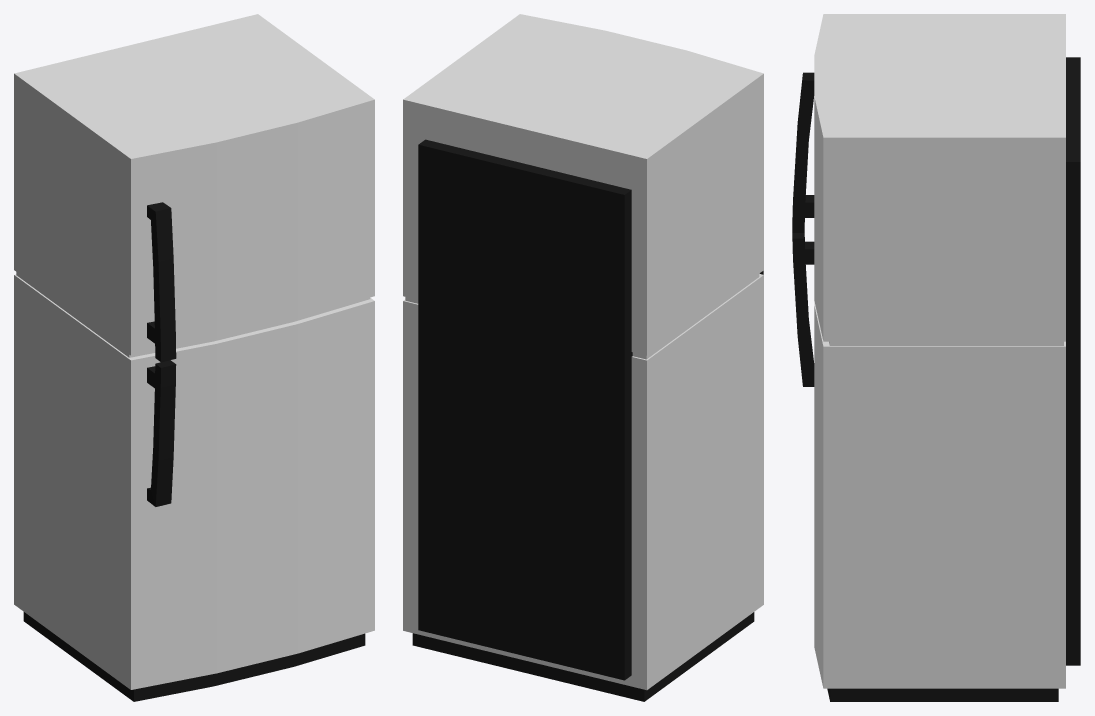
File: Refrigerator.fbx
The picture shows the model from 3 angles, left to right: view 1: azimuth 30°, elevation 25°; view 2: azimuth 150°, elevation 25°; view 3: azimuth 270°, elevation 25°; orthographic projection. The views are drawn at different scales.
Visible parts, largest first — view 1: Refrigerator; view 2: Refrigerator; view 3: Refrigerator.
Part boxes in pixels (box(x1,y1,x2,y2)): Refrigerator: box(14, 14, 374, 701); Refrigerator: box(403, 14, 763, 701); Refrigerator: box(792, 14, 1080, 701).
Bounding box in the file's own units: 112 × 239 × 110.
